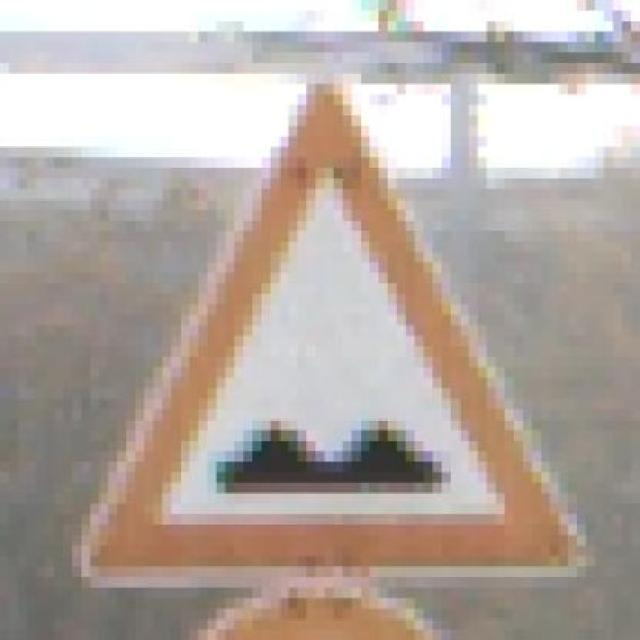Uneven Road: (82, 73, 586, 567)
